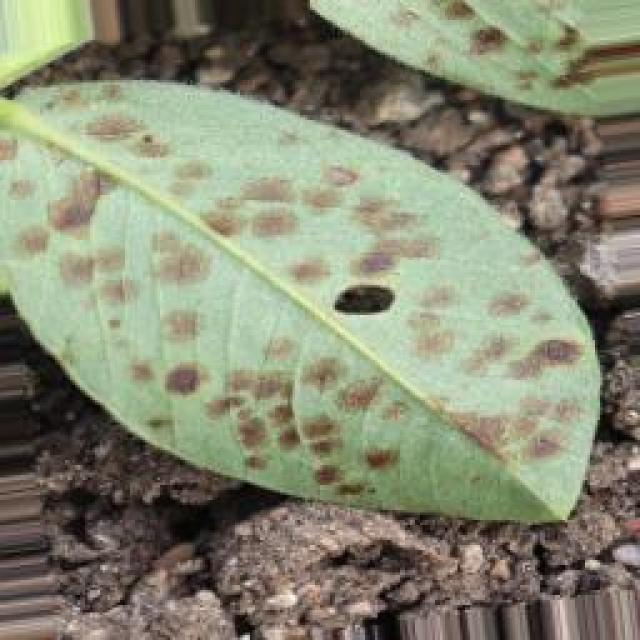Whitefly: (0, 38, 588, 568)
